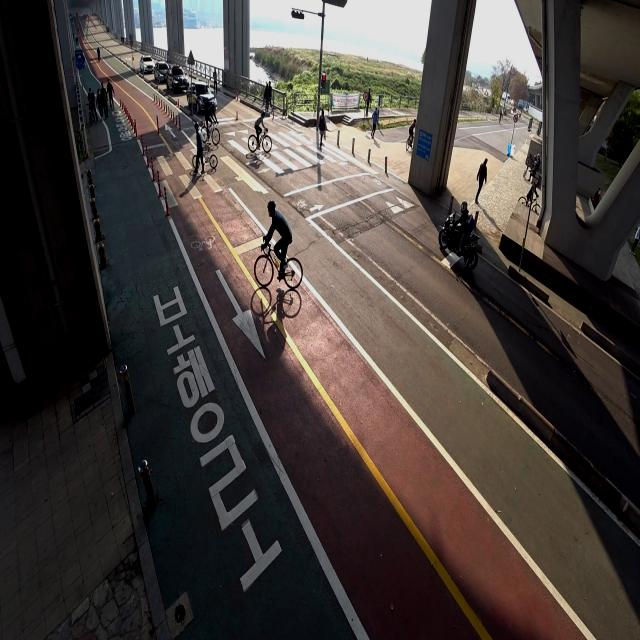Car: (188, 82, 212, 115), (166, 64, 187, 98), (153, 57, 170, 84), (138, 54, 156, 76)
Motorcycle: (438, 198, 480, 272)
